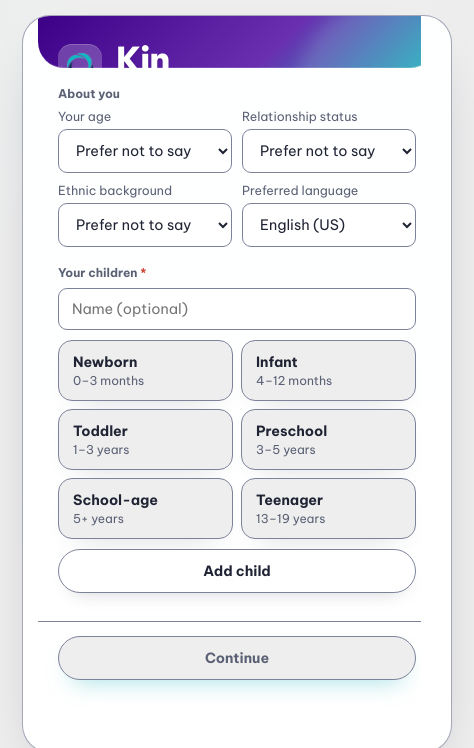
Scenario: AppShell (feature test): onboarding through the tabbed app › Find Doctor jumps straight to the clinician chat
In the field with placeholder "Name (optional)": [237, 309] box [58,288,416,330], type "Liam"
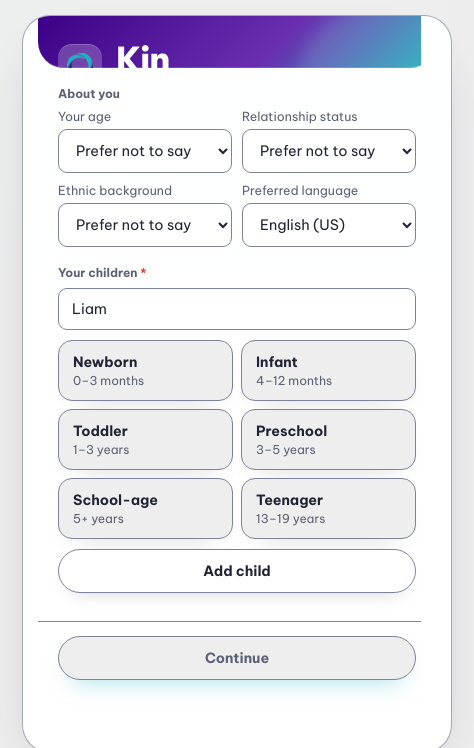
Click the button with test id "draft-age-chip-infant": [328, 371] box [241,340,416,401]
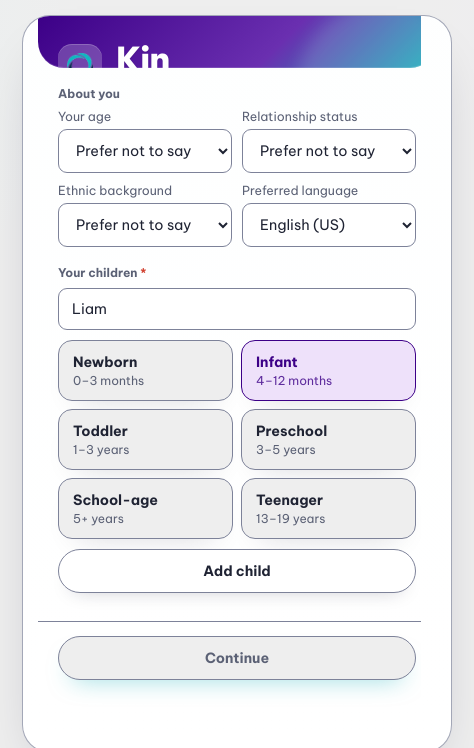
Click the button with test id "add-child-btn": [237, 571] box [58,549,416,593]
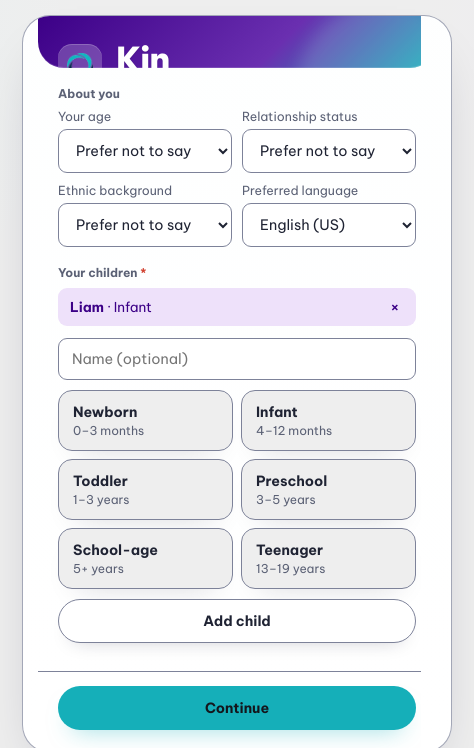
Click the button with test id "onboarding-continue": [237, 708] box [58,686,416,730]
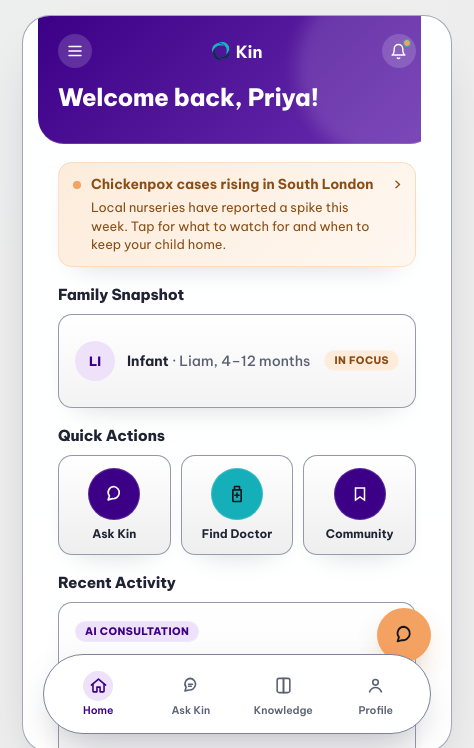
Click the button with test id "quick-action-find-doctor": [237, 505] box [181,455,293,555]
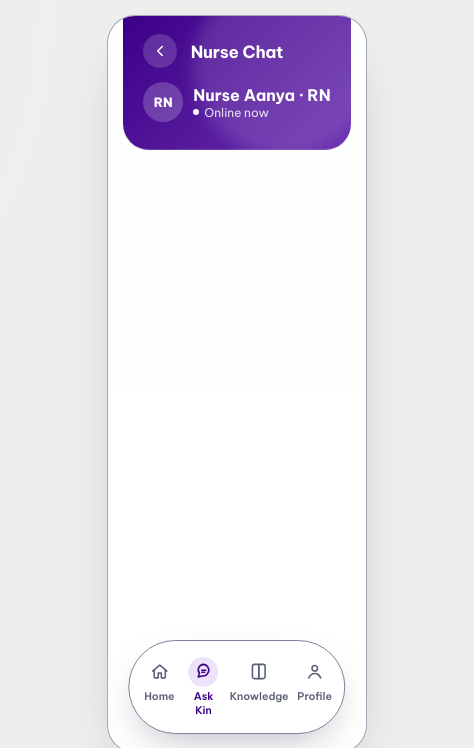
Expected: the element with test id "screen-clinicianChat" is shown, [123,16,351,150]
